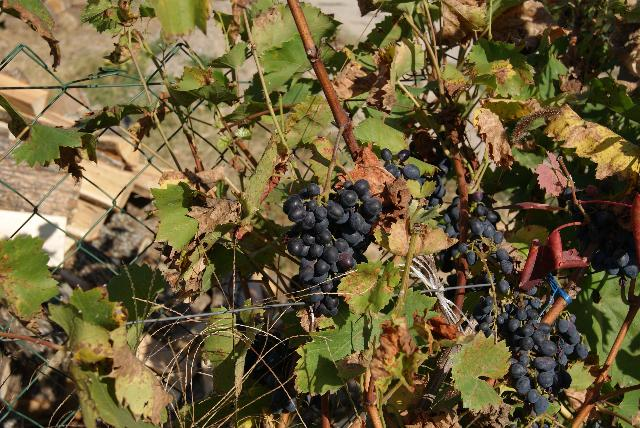grapes: (282, 180, 382, 316), (504, 298, 589, 415), (439, 194, 515, 296), (470, 290, 516, 322), (439, 196, 460, 239)
